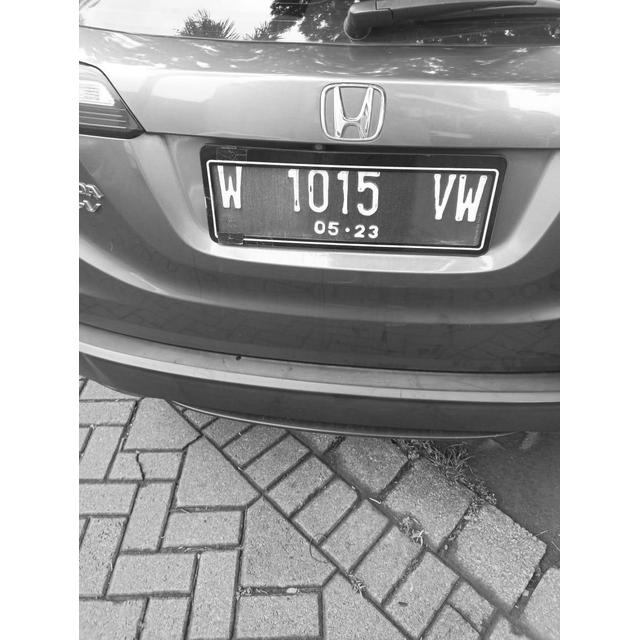license: (216, 164, 489, 240)
